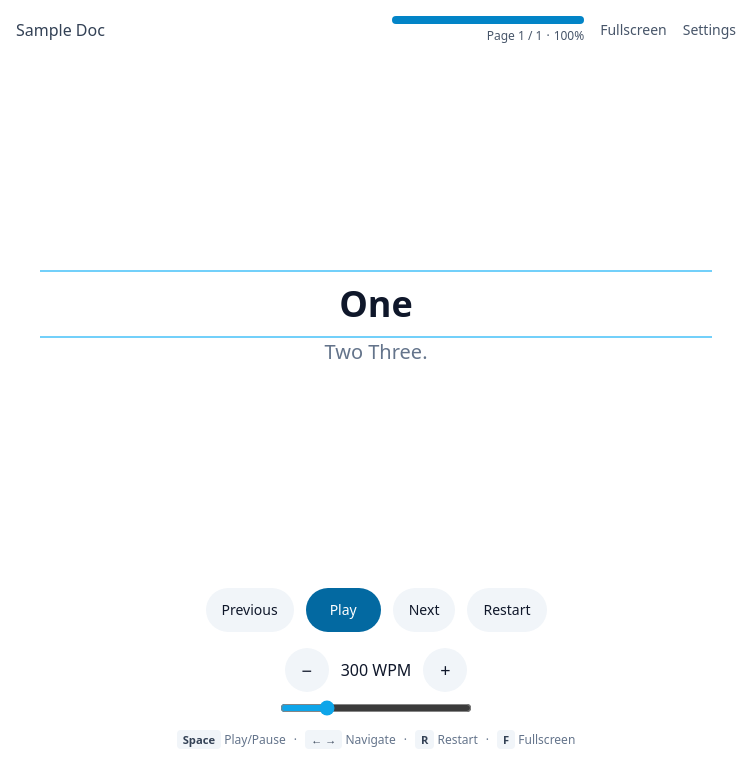
Scenario: ReaderPage › plays through tokens on Play and shows Pause once playing
The image size is (753, 764).
Click the button "Play" at (343,610), box [306,588,381,632]
Wait 200 ms
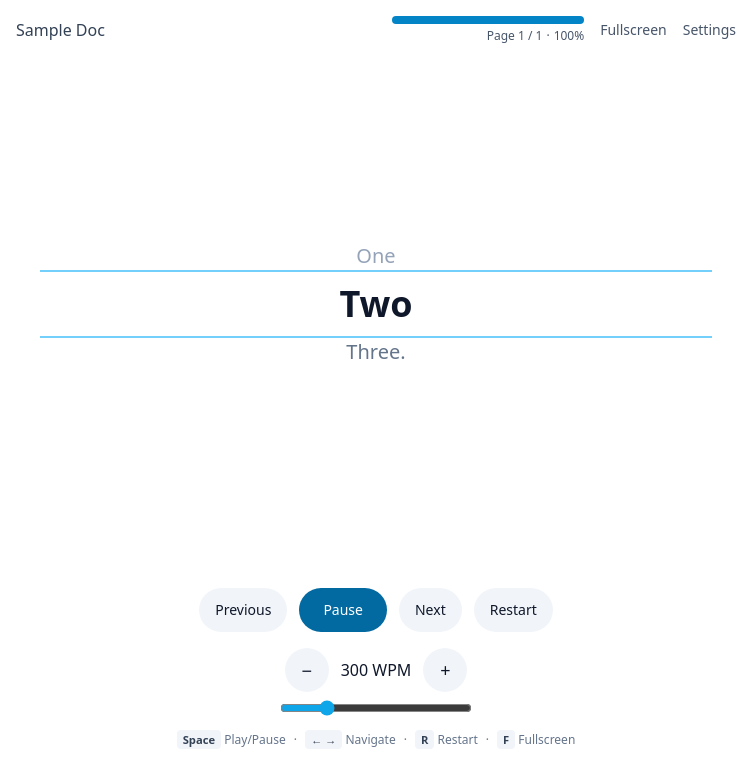
Check: the button "Pause" is shown, box [299,588,387,632]
Check: the text with test id "current-token" reads "Two", box [339,279,413,328]
